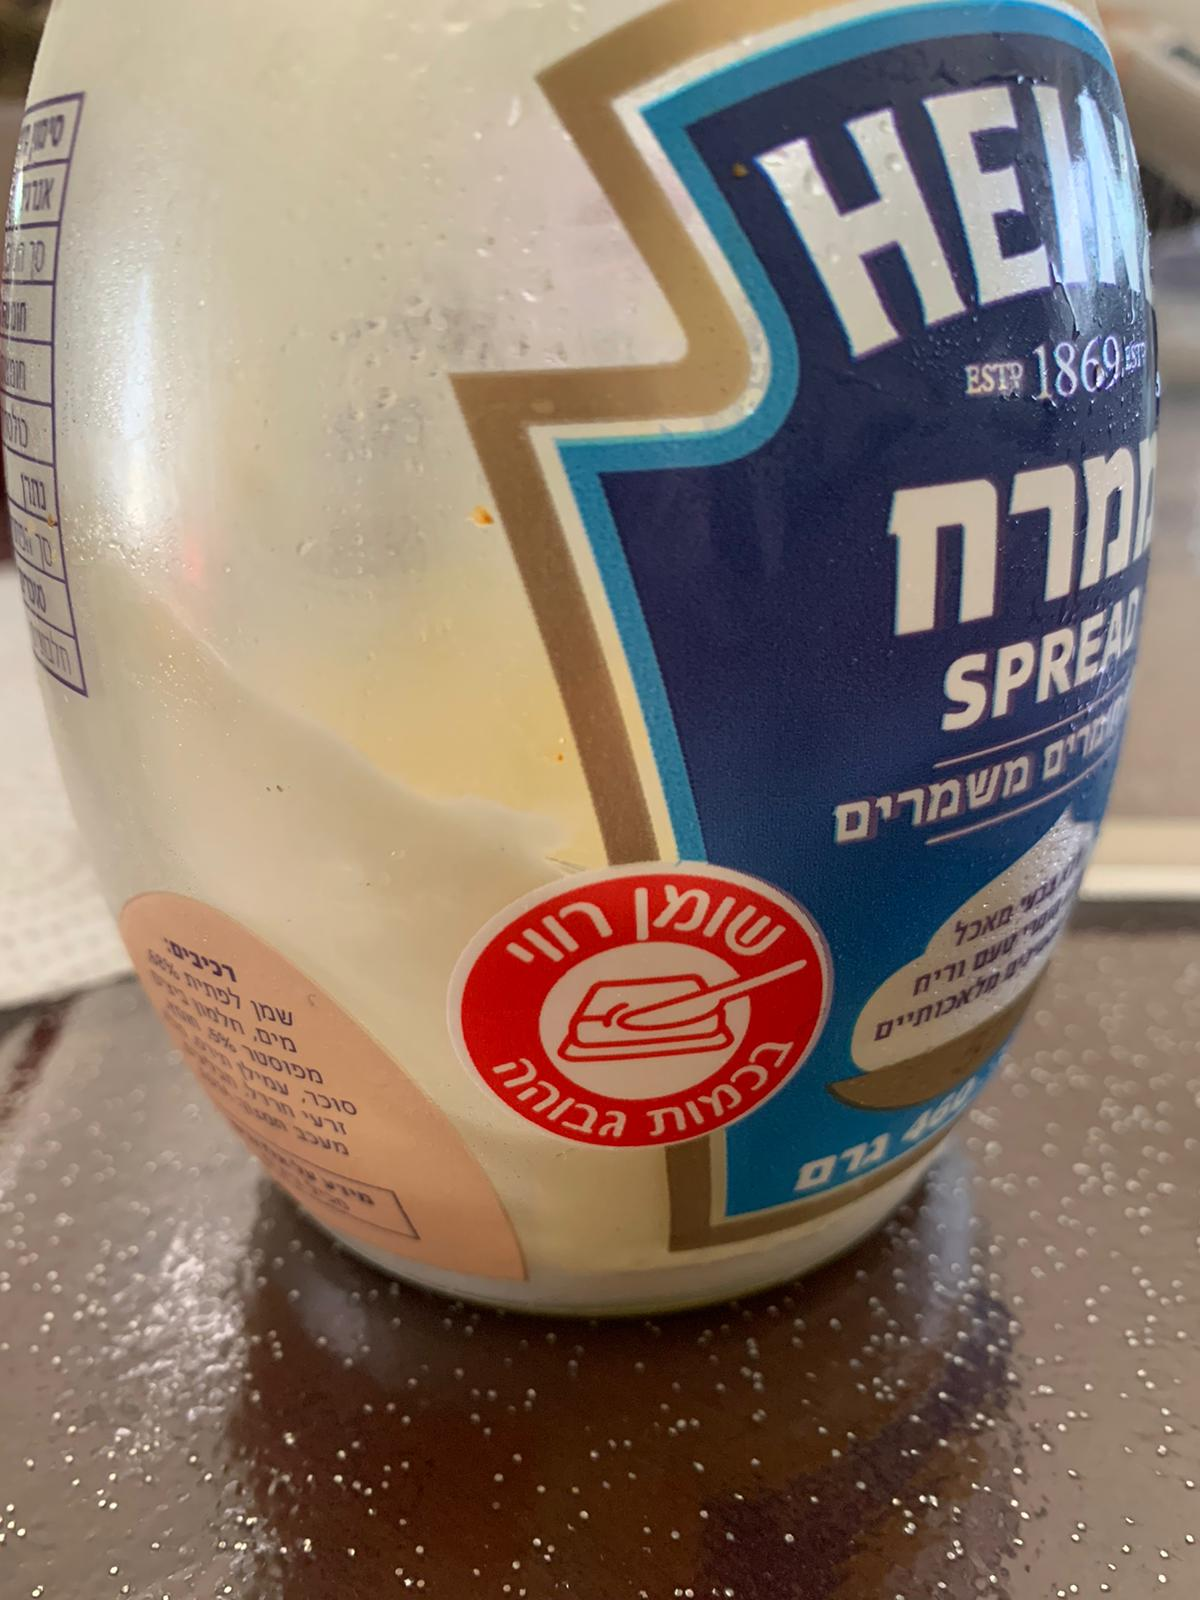fat: (446, 860, 831, 1153)
